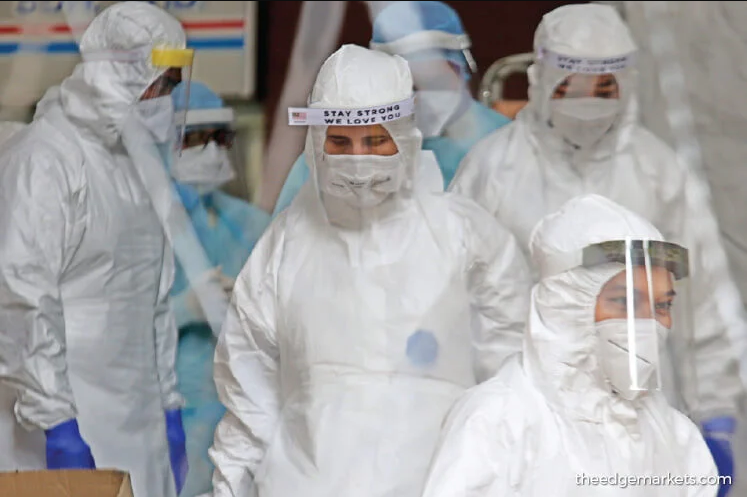Coverall: (221, 41, 497, 497), (1, 2, 185, 497), (438, 206, 719, 497)
Gloves: (43, 422, 94, 473)
with_mask: (597, 289, 673, 393), (322, 137, 401, 208), (552, 75, 617, 146)
